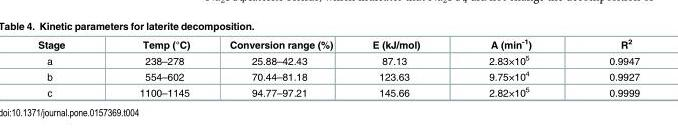table: (37, 36, 639, 97)
table column: (209, 36, 351, 97), (453, 36, 569, 97), (101, 36, 209, 97), (351, 36, 453, 97), (569, 36, 639, 97), (37, 36, 101, 97)
table column header: (37, 36, 639, 51)
table row: (37, 51, 639, 67), (37, 67, 639, 83), (37, 36, 639, 51), (37, 83, 639, 97)
